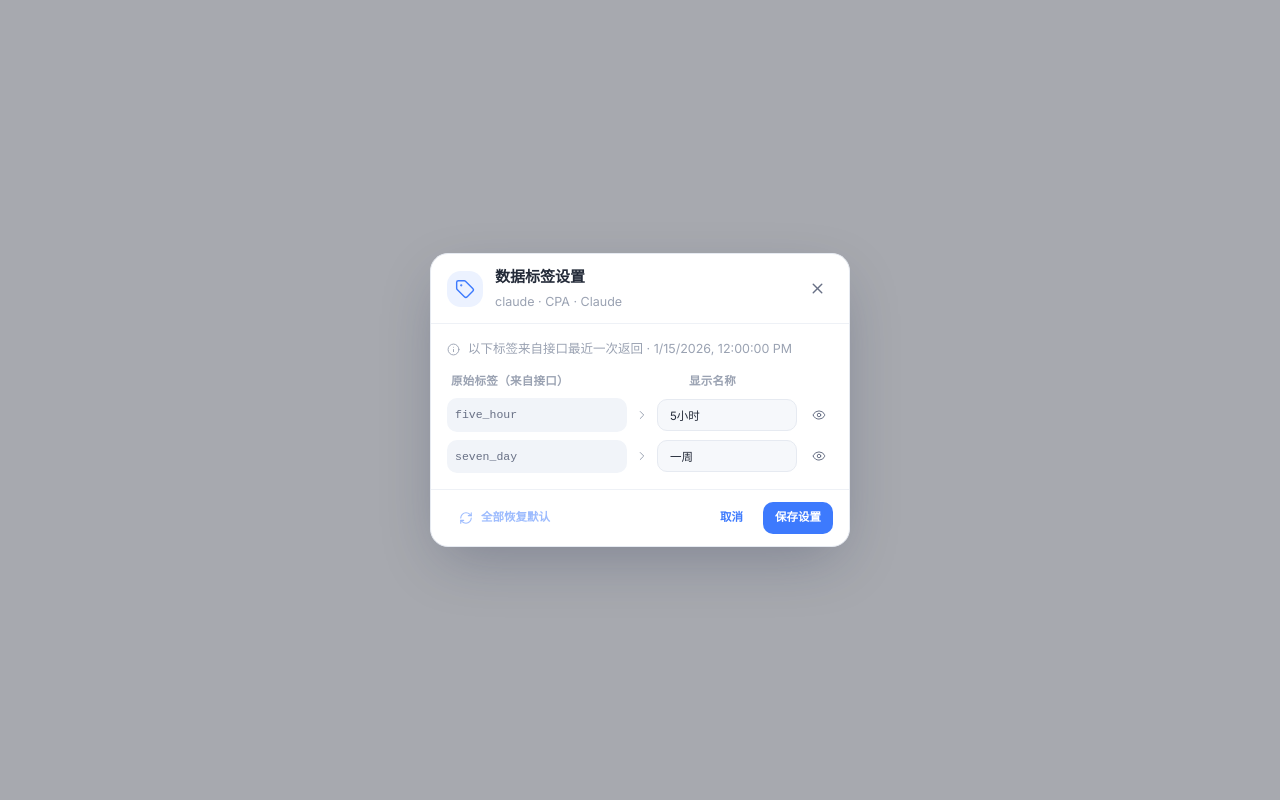
Scenario: LabelMapDialog › resets single row to default when reset button clicked
The image size is (1280, 800).
Check: the text "five_hour" is shown, box [447,398,627,432]
In the field next to "five_hour": (727, 415) [657,399,797,431], type "自定义名称"
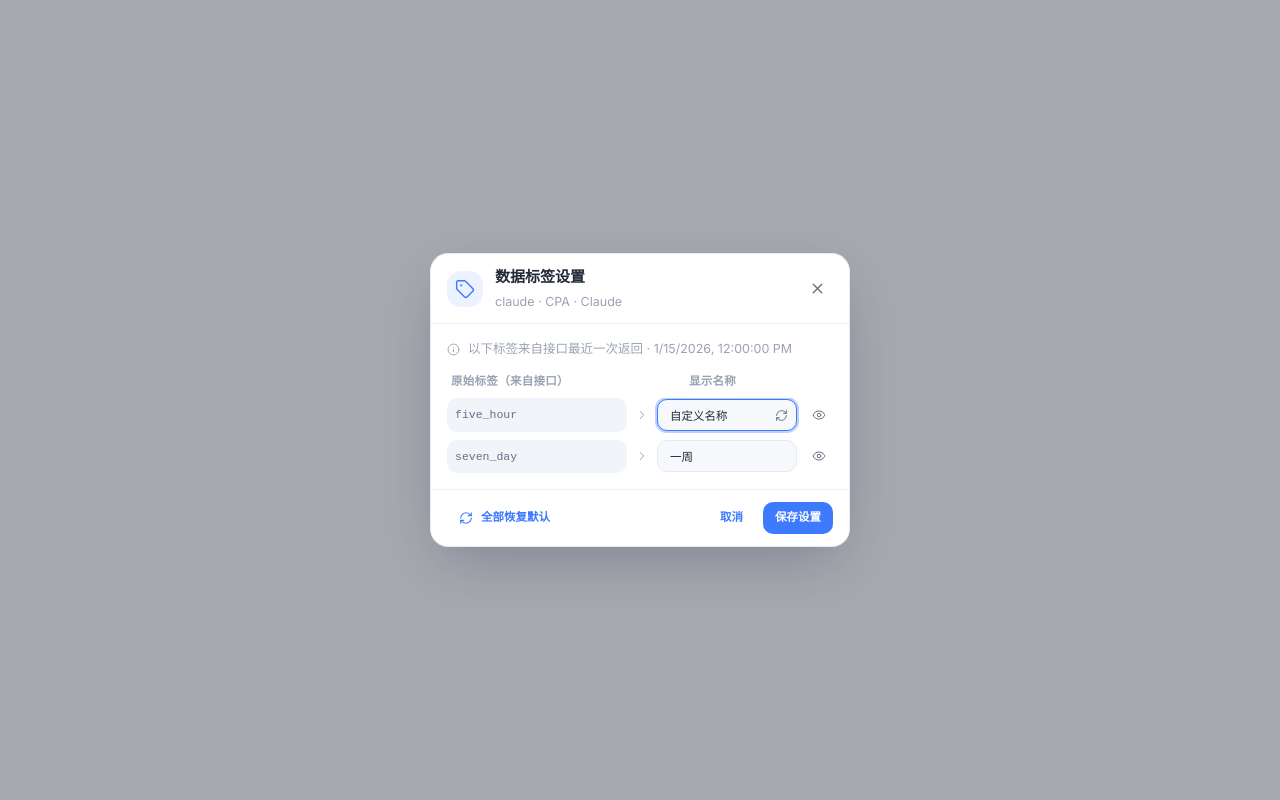
Click the button titled "恢复默认": (781, 415) [767,401,795,429]
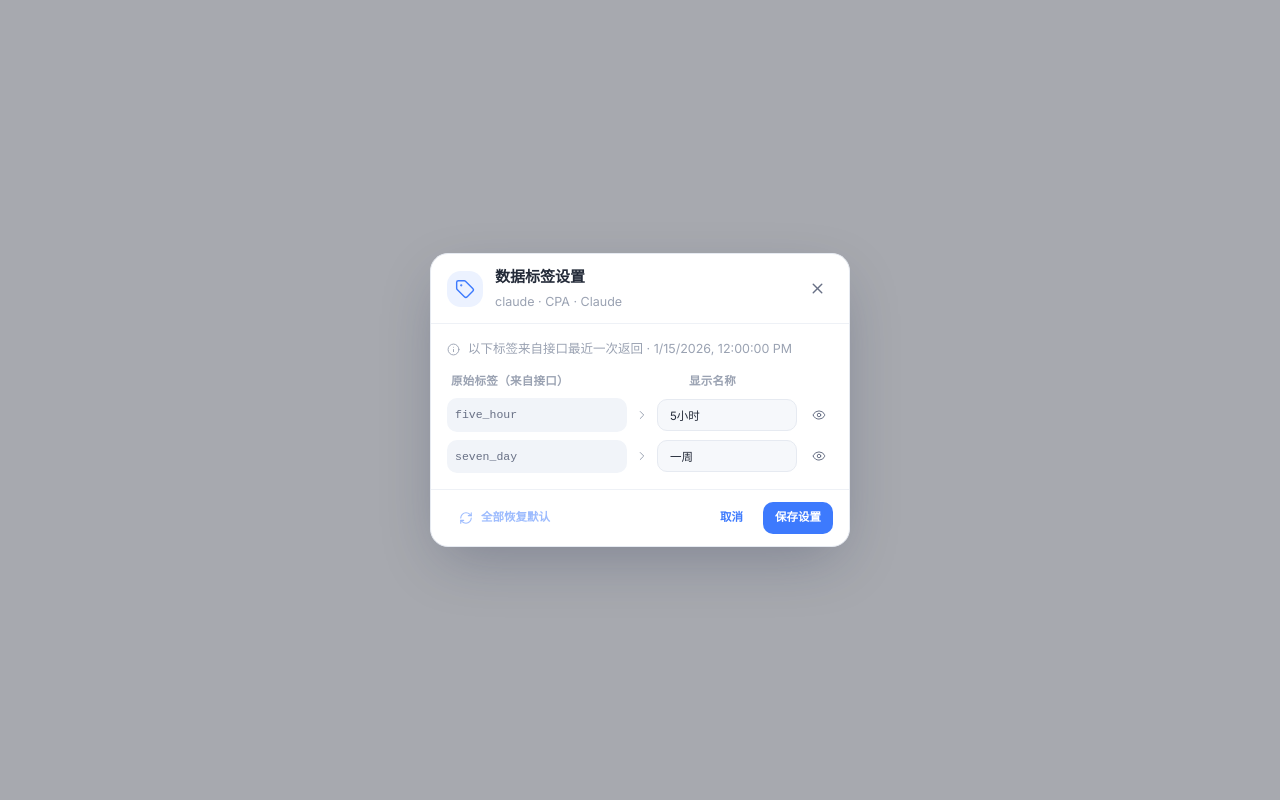
Check: the field next to "five_hour" holds "5小时", box [657,399,797,431]
